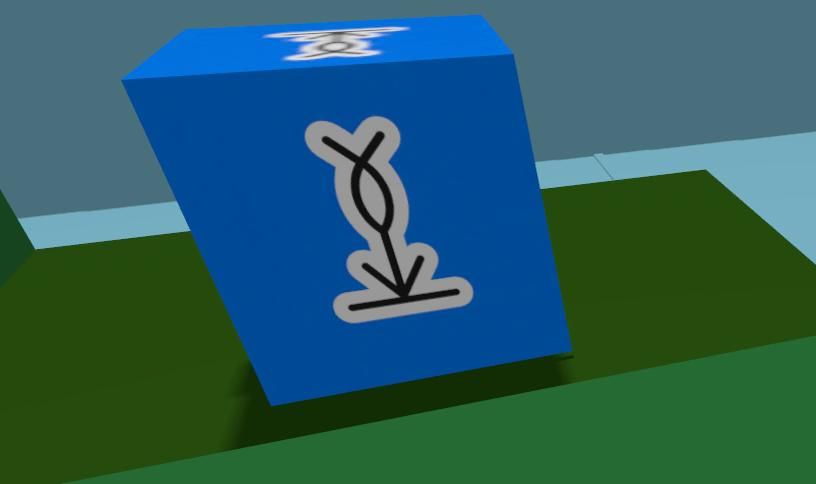KFS_REAL: (123, 16, 571, 404), (304, 116, 473, 323), (265, 28, 408, 60)
